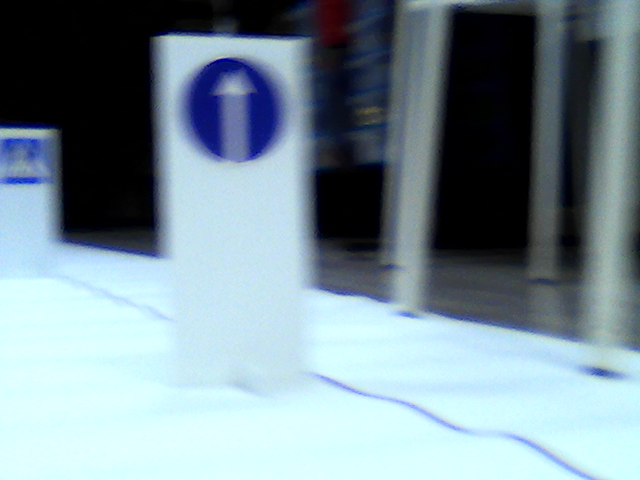forw: (184, 57, 281, 162)
pesh: (1, 138, 53, 185)
